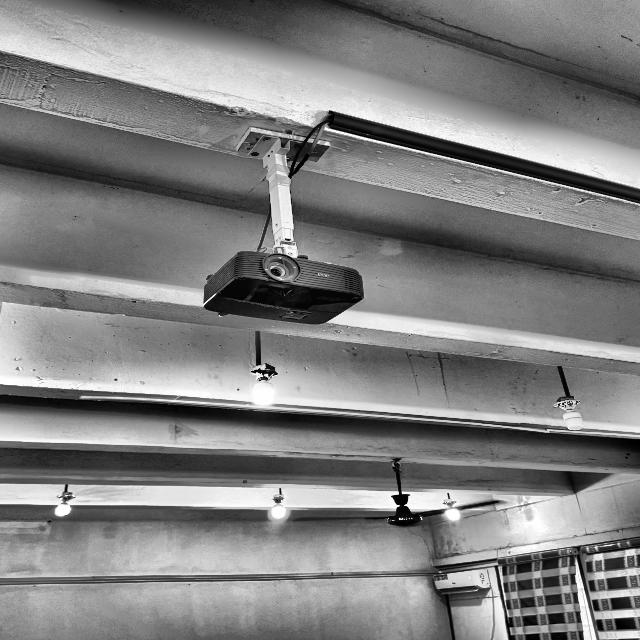fan: (290, 458, 532, 548)
projector: (191, 240, 405, 335)
